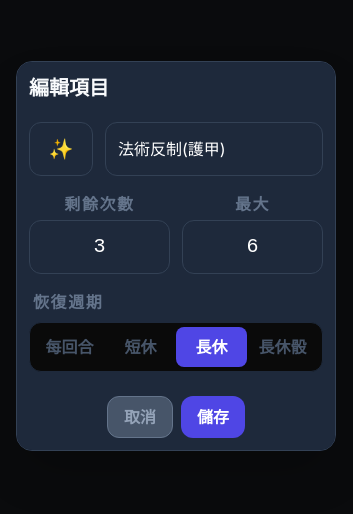
Test case: CombatItemEditModal - 長休骰 › 輸入自訂骰子後說明文字跟著變
The width and height of the screenshot is (353, 514).
Click the button "長休骰" at {"x": 282, "y": 347}, box [247, 327, 318, 367]
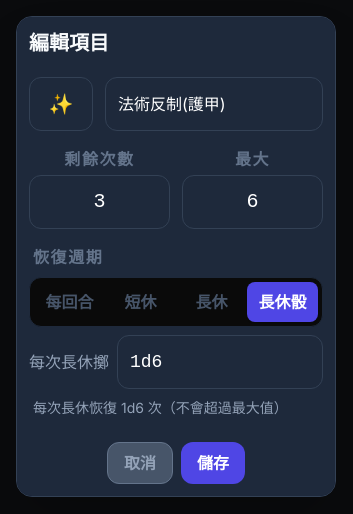
Replace the text in the field named "長休恢復骰子" with "1d5" at {"x": 220, "y": 362}, box [117, 334, 323, 388]
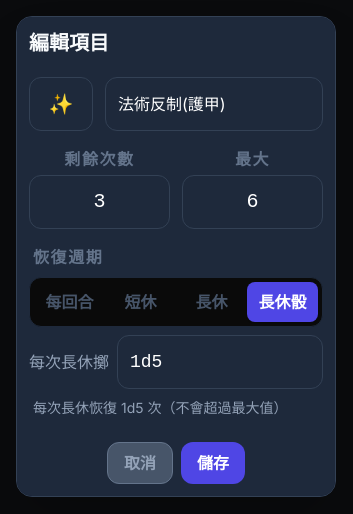
Now the text "每次長休恢復 1d5 次（不會超過最大值）" is shown, box [33, 396, 323, 418]
